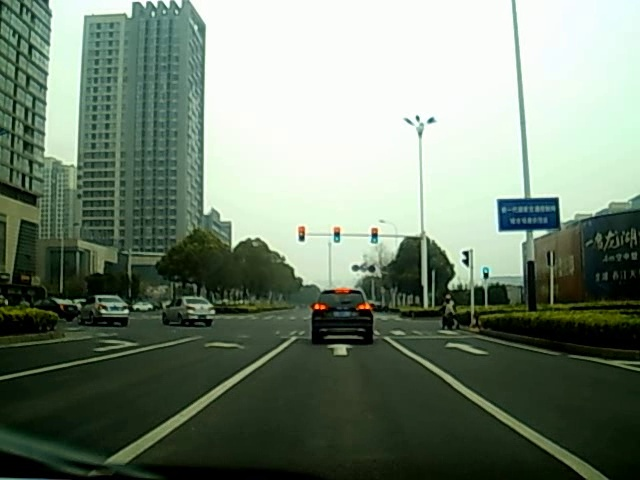Traffic_Light_go: (334, 235, 343, 244), (372, 235, 379, 243)
Traffic_Light_stop: (296, 225, 306, 243)
